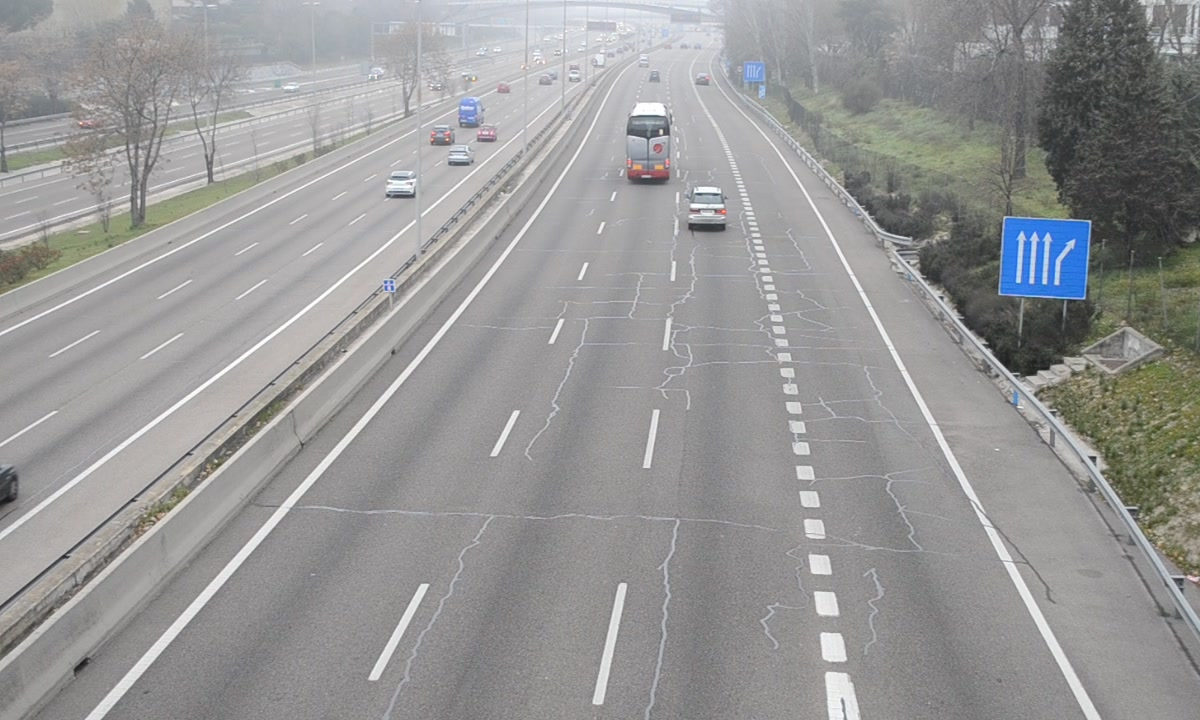bus: (625, 102, 672, 185)
car: (686, 187, 728, 229)
